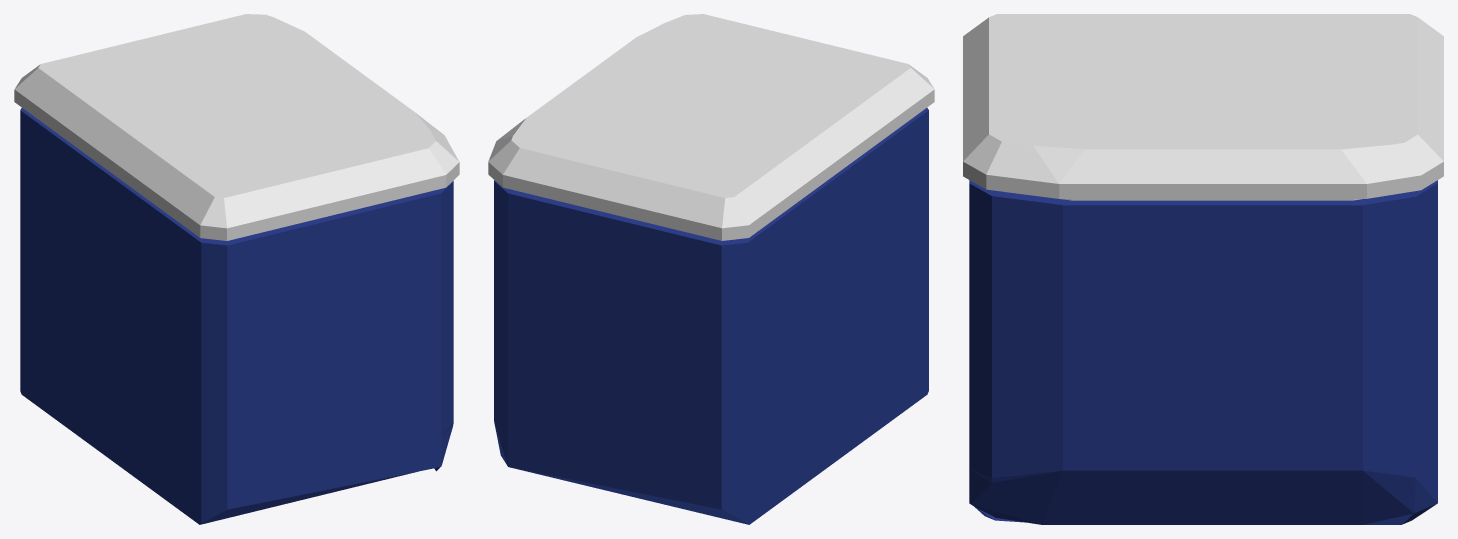
Rendered from cooler.glb.
3 renders of one model, left to right at view 1: azimuth 30°, elevation 25°; view 2: azimuth 150°, elevation 25°; view 3: azimuth 270°, elevation 25°, orthographic. The views are drawn at different scales.
Visible parts, largest first — view 1: Cooler; view 2: Cooler; view 3: Cooler.
Boxes of the visible parts, <box> form: Cooler: <box>14,14,459,524</box>; Cooler: <box>488,14,934,524</box>; Cooler: <box>963,14,1443,524</box>.
Bounding box in the file's own units: 0.6678 × 0.7488 × 0.862.
